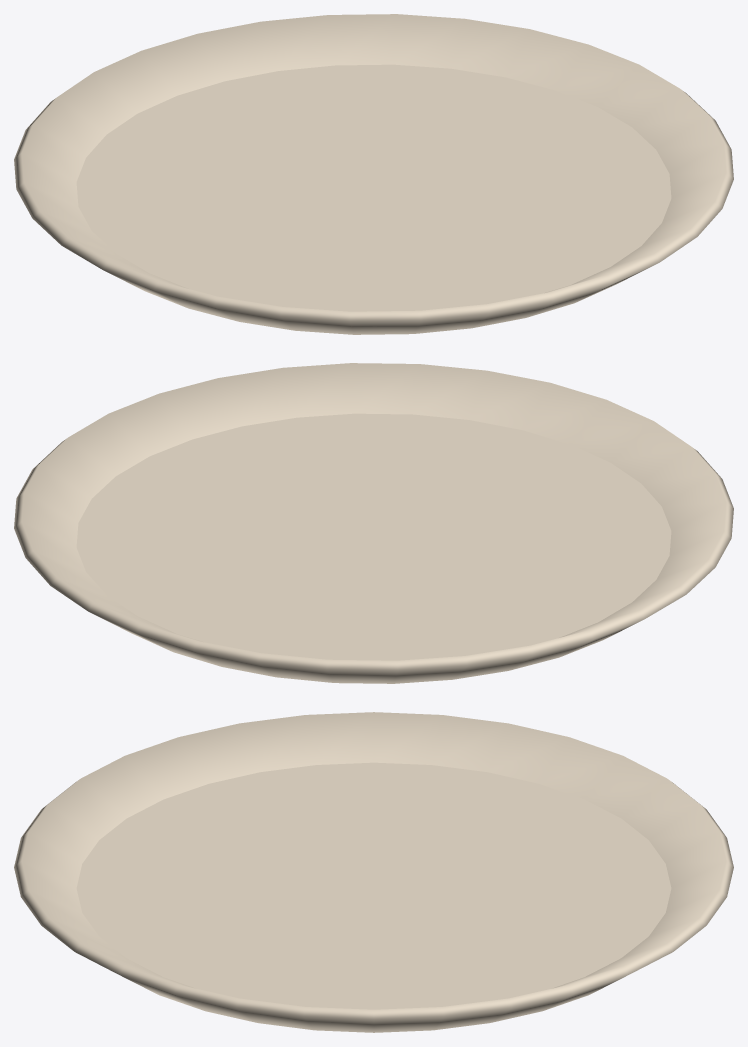
The model's file is Dish.fbx.
3 views of the same model, one above another, from view 1: azimuth 30°, elevation 25°; view 2: azimuth 150°, elevation 25°; view 3: azimuth 270°, elevation 25° (orthographic).
Parts seen in each view (by area): view 1: Dish; view 2: Dish; view 3: Dish.
Part boxes in pixels (x1,y1,x2,y2): Dish: (14, 14, 733, 334); Dish: (14, 363, 733, 683); Dish: (14, 712, 733, 1032).
Bounding box in the file's own units: 200 × 13.34 × 200.
